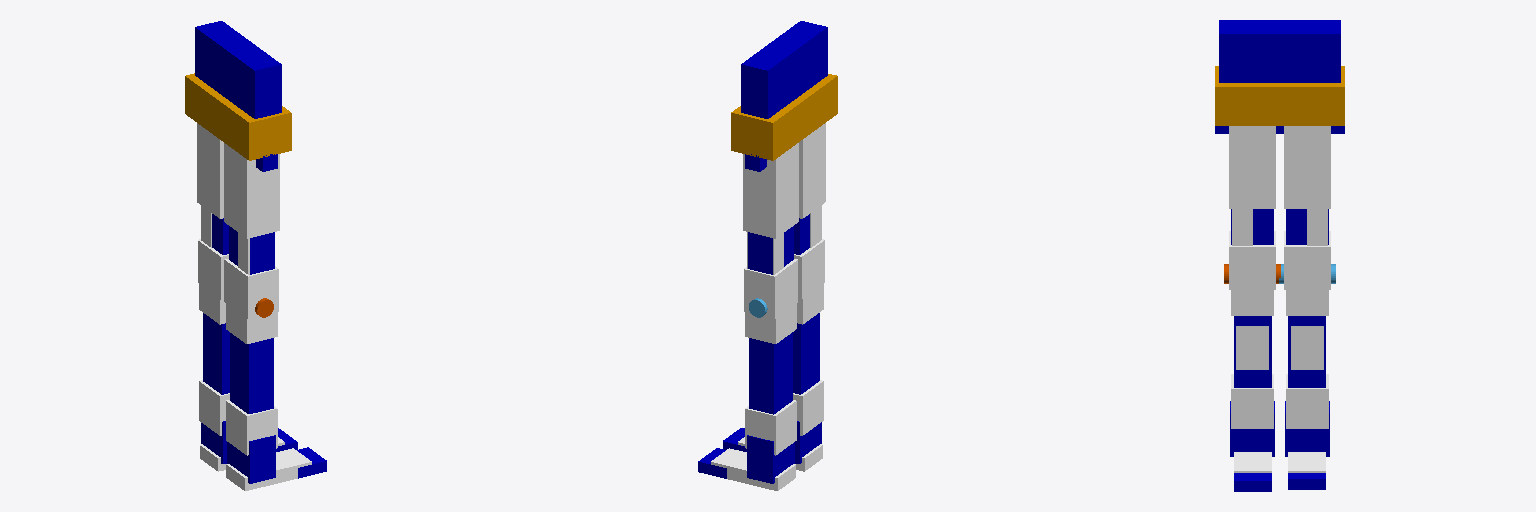
--- What the picture shows (computed from the rendered views, not written in the file) ---
Views: 3 orthographic renders of the robot side by side, from view 1: azimuth 30°, elevation 25°; view 2: azimuth 150°, elevation 25°; view 3: azimuth 270°, elevation 25°.
Robot: Opanoid_sketch — 30 links, 29 joints (12 revolute, 17 fixed); root link base_link; default pose: every joint at zero.
Visible links, largest first — view 1: servo_mounts, base_link, r_pelvis_attachment, r_160mm_rail, r_u_knee_joint, l_pelvis_attachment, l_160mm_rail, r_ankle_2, r_ankle_1, rightFoot, r_l_knee_joint, r_140mm_rail (+6 smaller); view 2: servo_mounts, base_link, l_pelvis_attachment, l_160mm_rail, r_pelvis_attachment, l_u_knee_joint, r_160mm_rail, l_ankle_2, l_ankle_1, l_l_knee_joint, leftFoot, l_140mm_rail (+5 smaller); view 3: servo_mounts, base_link, l_pelvis_attachment, r_pelvis_attachment, l_l_knee_joint, r_l_knee_joint, l_ankle_2, r_ankle_2, l_servo_module_t2, r_servo_module_t2, r_u_knee_joint, l_u_knee_joint (+12 smaller).
Boxes of the visible links, x1,y1,x2,y2 form: servo_mounts: (195,21,281,118); base_link: (185,73,291,160); r_pelvis_attachment: (224,143,279,238); r_160mm_rail: (230,333,273,413); r_u_knee_joint: (224,259,278,318); l_pelvis_attachment: (197,123,223,218); l_160mm_rail: (203,313,229,394); r_ankle_2: (226,400,277,455); r_ankle_1: (227,435,275,483); rightFoot: (226,448,311,490); r_l_knee_joint: (226,304,277,343); r_140mm_rail: (229,226,274,274); servo_mounts: (741,21,827,118); base_link: (731,74,837,160); l_pelvis_attachment: (743,143,798,238); l_160mm_rail: (749,332,792,414); r_pelvis_attachment: (799,123,825,218); l_u_knee_joint: (744,259,797,318); r_160mm_rail: (793,313,819,394); l_ankle_2: (745,400,796,455); l_ankle_1: (747,435,794,483); l_l_knee_joint: (745,288,796,343); leftFoot: (711,448,795,490); l_140mm_rail: (748,226,793,274); servo_mounts: (1219,20,1340,82); base_link: (1215,66,1344,125); l_pelvis_attachment: (1284,126,1330,208); r_pelvis_attachment: (1229,126,1275,208); l_l_knee_joint: (1286,273,1328,315); r_l_knee_joint: (1231,273,1273,315); l_ankle_2: (1286,374,1328,428); r_ankle_2: (1231,374,1273,428); l_servo_module_t2: (1291,326,1323,369); r_servo_module_t2: (1236,326,1268,369); r_u_knee_joint: (1229,231,1275,289); l_u_knee_joint: (1284,231,1330,289).
Bounding box of the posed robot: 0.1702 × 0.218 × 0.7939 m (x, y, z).
Geometry: primitives only (box / cylinder / sphere), no mesh files.

The robot description file, URDF, robot "Opanoid_sketch":
<?xml version="1.0"?>
<robot name="Opanoid_sketch">

<!--materials-->
  <material name="blue">
    <color rgba="0 0 0.8 1"/>
  </material>

  <material name="white">
    <color rgba="1 1 1 1"/>
  </material>
  
<!--links-->
<!--Pelvis-->
  <link name="base_link">
  	<visual>
  		<geometry>
				<box size="0.0825 0.218 0.0712"/>
			</geometry>
		</visual>
		<collision>
  		<geometry>
				<box size="0.15 0.35 0.15"/>
			</geometry>
		</collision>
		<inertial>
      <mass value="0.272"/>
      <inertia ixx="0.4" ixy="0.0" ixz="0.0" iyy="0.4" iyz="0.0" izz="0.2"/>
    </inertial>
	</link>
	<link name="pelvis_lower">
  	<visual>
  		<geometry>
				<box size="0.03 0.218 0.03"/>
			</geometry>
			<origin xyz="0 0 -0.015" rpy="0 0 0"/>
			<material name="blue"/>
		</visual>
		<collision>
  		<geometry>
				<box size="0.15 0.35 0.15"/>
			</geometry>
			<origin xyz="0 0 -0.015" rpy="0 0 0"/>
		</collision>
		<inertial>
      <mass value="0.078"/>
      <inertia ixx="0.4" ixy="0.0" ixz="0.0" iyy="0.4" iyz="0.0" izz="0.2"/>
    </inertial>
	</link>
	<link name="servo_mounts">
  	<visual>
  		<geometry>
				<box size="0.0525 0.2025 0.1525"/>
			</geometry>
			<origin xyz="0 0 0" rpy="0 0 0"/>
			<material name="blue"/>
		</visual>
		<collision>
  		<geometry>
				<box size="0.15 0.35 0.15"/>
			</geometry>
			<origin xyz="0 0 -0.015" rpy="0 0 0"/>
		</collision>
		<inertial>
      <mass value="0.672"/>
      <inertia ixx="0.4" ixy="0.0" ixz="0.0" iyy="0.4" iyz="0.0" izz="0.2"/>
    </inertial>
	</link>
	<link name="l_pelvis_bracket_2">
  	<visual>
  		<geometry>
				<box size="0.054 0.06 0.04"/>
			</geometry>
			<origin xyz="0 0 0" rpy="0 0 0"/>
		</visual>
		<collision>
  		<geometry>
				<box size="0.054 0.06 0.04"/>
			</geometry>
			<origin xyz="0 0 0" rpy="0 0 0"/>
		</collision>
		<inertial>
      <mass value="0.11"/>
      <inertia ixx="0.4" ixy="0.0" ixz="0.0" iyy="0.4" iyz="0.0" izz="0.2"/>
    </inertial>
  </link>
  <link name="r_pelvis_bracket_2">
  	<visual>
  		<geometry>
				<box size="0.054 0.06 0.04"/>
			</geometry>
			<origin xyz="0 0 0" rpy="0 0 0"/>
		</visual>
		<collision>
  		<geometry>
				<box size="0.054 0.06 0.04"/>
			</geometry>
			<origin xyz="0 0 0" rpy="0 0 0"/>
		</collision>
		<inertial>
      <mass value="0.11"/>
      <inertia ixx="0.4" ixy="0.0" ixz="0.0" iyy="0.4" iyz="0.0" izz="0.2"/>
    </inertial>
  </link>
  
<!--Left leg-->
	<link name="l_pelvis_attachment">
  	<visual>
  		<geometry>
				<box size="0.064 0.07925 0.157"/>
			</geometry>
			<origin xyz="0 0 -0.0665" rpy="0 0 0"/>
			<material name="white"/>
		</visual>
		<collision>
  		<geometry>
				<box size="0.064 0.007925 0.157"/>
			</geometry>
			<origin xyz="0 0 -0.0665" rpy="0 0 0"/>
		</collision>
		<inertial>
      <mass value="0.174"/>
      <inertia ixx="0.4" ixy="0.0" ixz="0.0" iyy="0.4" iyz="0.0" izz="0.2"/>
    </inertial>
  </link>
  <link name="l_140mm_rail">
  	<visual>
  		<geometry>
				<box size="0.0485 0.0715 0.14"/>
			</geometry>
			<origin xyz="0 0 -0.07" rpy="0 0 0"/>
			<material name="blue"/>
		</visual>
		<collision>
  		<geometry>
				<box size="0.0485 0.0715 0.14"/>
			</geometry>
			<origin xyz="0 0 -0.07" rpy="0 0 0"/>
		</collision>
		<inertial>
      <mass value="0.03"/>
      <inertia ixx="0.4" ixy="0.0" ixz="0.0" iyy="0.4" iyz="0.0" izz="0.2"/>
    </inertial>
  </link>
  <link name="l_servo_module_t1">
  	<visual>
  		<geometry>
				<box size="0.0525 0.0345 0.1035"/>
			</geometry>
			<origin xyz="0 0.01725 0" rpy="0 0 0"/>
			<material name="white"/>
		</visual>
		<collision>
  		<geometry>
				<box size="0.0525 0.0345 0.1035"/>
			</geometry>
			<origin xyz="0 0.01725 0" rpy="0 0 0"/>
		</collision>
		<inertial>
      <mass value="0.118"/>
      <inertia ixx="0.4" ixy="0.0" ixz="0.0" iyy="0.4" iyz="0.0" izz="0.2"/>
    </inertial>
  </link>
  <link name="l_u_knee_joint">
  	<visual>
  		<geometry>
				<box size="0.061 0.07925 0.08"/>
			</geometry>
			<origin xyz="0 0 0.024" rpy="0 0 0"/>
			<material name="white"/>
		</visual>
		<collision>
  		<geometry>
				<box size="0.061 0.07925 0.08"/>
			</geometry>
			<origin xyz="0 0 0.024" rpy="0 0 0"/>
		</collision>
		<inertial>
      <mass value="0.048"/>
      <inertia ixx="0.4" ixy="0.0" ixz="0.0" iyy="0.4" iyz="0.0" izz="0.2"/>
    </inertial>
  </link>
  <link name="l_joint_hinge">
  	<visual>
  		<geometry>
				<cylinder radius="0.01625" length="0.0945"/>
			</geometry>
			<origin xyz="0 0 0" rpy="1.5708 0 0"/>
			<material name=""/>
		</visual>
		<collision>
  		<geometry>
				<cylinder radius="0.0325" length="0.0945"/>
			</geometry>
			<origin xyz="0 0 0" rpy="1.5708 0 0"/>
		</collision>
		<inertial>
      <mass value="0.045"/>
      <inertia ixx="0.4" ixy="0.0" ixz="0.0" iyy="0.4" iyz="0.0" izz="0.2"/>
    </inertial>
  </link>
  <link name="l_l_knee_joint">
  	<visual>
  		<geometry>
				<box size="0.061 0.07175 0.08"/>
			</geometry>
			<origin xyz="0 0 -0.024" rpy="0 0 0"/>
			<material name="white"/>
		</visual>
		<collision>
  		<geometry>
				<box size="0.061 0.07175 0.08"/>
			</geometry>
			<origin xyz="0 0 -0.024" rpy="0 0 0"/>
		</collision>
		<inertial>
      <mass value="0.05"/>
      <inertia ixx="0.4" ixy="0.0" ixz="0.0" iyy="0.4" iyz="0.0" izz="0.2"/>
    </inertial>
  </link>
  <link name="l_160mm_rail">
  	<visual>
  		<geometry>
				<box size="0.0485 0.064 0.16"/>
			</geometry>
			<origin xyz="0 0 -0.08" rpy="0 0 0"/>
			<material name="blue"/>
		</visual>
		<collision>
  		<geometry>
				<box size="0.0485 0.064 0.16"/>
			</geometry>
			<origin xyz="0 0 -0.08" rpy="0 0 0"/>
		</collision>
		<inertial>
      <mass value="0.035"/>
      <inertia ixx="0.4" ixy="0.0" ixz="0.0" iyy="0.4" iyz="0.0" izz="0.2"/>
    </inertial>
  </link>
  <link name="l_servo_module_t2">
  	<visual>
  		<geometry>
				<box size="0.029 0.055 0.0795"/>
			</geometry>
			<origin xyz="0.01 0 0" rpy="0 0 0"/>
			<material name="white"/>
		</visual>
		<collision>
  		<geometry>
				<box size="0.029 0.055 0.0795"/>
			</geometry>
			<origin xyz="0.01 0 0" rpy="0 0 0"/>
		</collision>
		<inertial>
      <mass value="0.105"/>
      <inertia ixx="0.4" ixy="0.0" ixz="0.0" iyy="0.4" iyz="0.0" izz="0.2"/>
    </inertial>
  </link>
	<link name="l_ankle_2">
  	<visual>
  		<geometry>
				<box size="0.06 0.07175 0.0739"/>
			</geometry>
			<origin xyz="0 0 -0.035" rpy="0 0 0"/>
			<material name="white"/>
		</visual>
		<collision>
  		<geometry>
				<box size="0.06 0.07175 0.0739"/>
			</geometry>
			<origin xyz="0 0 -0.035" rpy="0 0 0"/>
		</collision>
		<inertial>
      <mass value="0.073"/>
      <inertia ixx="0.4" ixy="0.0" ixz="0.0" iyy="0.4" iyz="0.0" izz="0.2"/>
    </inertial>
  </link>
  <link name="l_ankle_1">
  	<visual>
  		<geometry>
				<box size="0.0515 0.0752 0.0792"/>
			</geometry>
			<origin xyz="0 0 -0.0396" rpy="0 0 0"/>
			<material name="blue"/>
		</visual>
		<collision>
  		<geometry>
				<box size="0.0515 0.0752 0.0792"/>
			</geometry>
			<origin xyz="0 0 -0.0396" rpy="0 0 0"/>
		</collision>
		<inertial>
      <mass value="0.036"/>
      <inertia ixx="0.4" ixy="0.0" ixz="0.0" iyy="0.4" iyz="0.0" izz="0.2"/>
    </inertial>
  </link>
  <link name="leftFoot">
  	<visual>
  		<geometry>
				<box size="0.131 0.0627 0.025"/>
			</geometry>
			<origin xyz="0.0343 0 -0.0025" rpy="0 0 0"/>
			<material name="white"/>
		</visual>
		<collision>
  		<geometry>
				<box size="0.131 0.0627 0.025"/>
			</geometry>
			<origin xyz="0.0343 0 -0.0025" rpy="0 0 0"/>
		</collision>
		<inertial>
      <mass value="0.146"/>
      <inertia ixx="0.4" ixy="0.0" ixz="0.0" iyy="0.4" iyz="0.0" izz="0.2"/>
    </inertial>
  </link>
  <link name="leftToe">
  	<visual>
  		<geometry>
				<box size="0.0569 0.0632 0.02"/>
			</geometry>
			<origin xyz="0.01 0 0" rpy="0 0 0"/>
			<material name="blue"/>
		</visual>
		<collision>
  		<geometry>
				<box size="0.0569 0.0632 0.02"/>
			</geometry>
			<origin xyz="0.01 0 0" rpy="0 0 0"/>
		</collision>
		<inertial>
      <mass value="0.42"/>
      <inertia ixx="0.4" ixy="0.0" ixz="0.0" iyy="0.4" iyz="0.0" izz="0.2"/>
    </inertial>
  </link>

<!--Right leg-->
  <link name="r_pelvis_attachment">
  	<visual>
  		<geometry>
				<box size="0.064 0.07925 0.157"/>
			</geometry>
			<origin xyz="0 0 -0.0665" rpy="0 0 0"/>
			<material name="white"/>
		</visual>
		<collision>
  		<geometry>
				<box size="0.064 0.07925 0.157"/>
			</geometry>
			<origin xyz="0 0 -0.0665" rpy="0 0 0"/>
		</collision>
		<inertial>
      <mass value="0.174"/>
      <inertia ixx="0.4" ixy="0.0" ixz="0.0" iyy="0.4" iyz="0.0" izz="0.2"/>
    </inertial>
  </link>
  <link name="r_140mm_rail">
  	<visual>
  		<geometry>
				<box size="0.0485 0.0715 0.14"/>
			</geometry>
			<origin xyz="0 0 -0.07" rpy="0 0 0"/>
			<material name="blue"/>
		</visual>
		<collision>
  		<geometry>
				<box size="0.0485 0.0715 0.14"/>
			</geometry>
			<origin xyz="0 0 -0.07" rpy="0 0 0"/>
		</collision>
		<inertial>
      <mass value="0.03"/>
      <inertia ixx="0.4" ixy="0.0" ixz="0.0" iyy="0.4" iyz="0.0" izz="0.2"/>
    </inertial>
  </link>
  <link name="r_servo_module_t1">
  	<visual>
  		<geometry>
				<box size="0.0525 0.0345 0.1035"/>
			</geometry>
			<origin xyz="0 -0.01725 0" rpy="0 0 0"/>
			<material name="white"/>
		</visual>
		<collision>
  		<geometry>
				<box size="0.0525 0.0345 0.1035"/>
			</geometry>
			<origin xyz="0 -0.01725 0" rpy="0 0 0"/>
		</collision>
		<inertial>
      <mass value="0.118"/>
      <inertia ixx="0.4" ixy="0.0" ixz="0.0" iyy="0.4" iyz="0.0" izz="0.2"/>
    </inertial>
  </link>
  <link name="r_u_knee_joint">
  	<visual>
  		<geometry>
				<box size="0.061 0.07925 0.08"/>
			</geometry>
			<origin xyz="0 0 0.024" rpy="0 0 0"/>
			<material name="white"/>
		</visual>
		<collision>
  		<geometry>
				<box size="0.061 0.07925 0.08"/>
			</geometry>
			<origin xyz="0 0 0.024" rpy="0 0 0"/>
		</collision>
		<inertial>
      <mass value="0.048"/>
      <inertia ixx="0.4" ixy="0.0" ixz="0.0" iyy="0.4" iyz="0.0" izz="0.2"/>
    </inertial>
  </link>
  <link name="r_joint_hinge">
  	<visual>
  		<geometry>
				<cylinder radius="0.01625" length="0.0945"/>
			</geometry>
			<origin xyz="0 0 0" rpy="1.5708 0 0"/>
			<material name=""/>
		</visual>
		<collision>
  		<geometry>
				<cylinder radius="0.0325" length="0.0945"/>
			</geometry>
			<origin xyz="0 0 0" rpy="1.5708 0 0"/>
		</collision>
		<inertial>
      <mass value="0.045"/>
      <inertia ixx="0.4" ixy="0.0" ixz="0.0" iyy="0.4" iyz="0.0" izz="0.2"/>
    </inertial>
  </link>
  <link name="r_l_knee_joint">
  	<visual>
  		<geometry>
				<box size="0.061 0.07175 0.08"/>
			</geometry>
			<origin xyz="0 0 -0.024" rpy="0 0 0"/>
			<material name="white"/>
		</visual>
		<collision>
  		<geometry>
				<box size="0.061 0.07175 0.08"/>
			</geometry>
			<origin xyz="0 0 -0.024" rpy="0 0 0"/>
		</collision>
		<inertial>
      <mass value="0.05"/>
      <inertia ixx="0.4" ixy="0.0" ixz="0.0" iyy="0.4" iyz="0.0" izz="0.2"/>
    </inertial>
  </link>
  <link name="r_160mm_rail">
  	<visual>
  		<geometry>
				<box size="0.0485 0.064 0.16"/>
			</geometry>
			<origin xyz="0 0 -0.08" rpy="0 0 0"/>
			<material name="blue"/>
		</visual>
		<collision>
  		<geometry>
				<box size="0.0485 0.064 0.16"/>
			</geometry>
			<origin xyz="0 0 -0.08" rpy="0 0 0"/>
		</collision>
		<inertial>
      <mass value="0.035"/>
      <inertia ixx="0.4" ixy="0.0" ixz="0.0" iyy="0.4" iyz="0.0" izz="0.2"/>
    </inertial>
  </link>
  <link name="r_servo_module_t2">
  	<visual>
  		<geometry>
				<box size="0.029 0.055 0.0795"/>
			</geometry>
			<origin xyz="0.01 0 0" rpy="0 0 0"/>
			<material name="white"/>
		</visual>
		<collision>
  		<geometry>
				<box size="0.029 0.055 0.0795"/>
			</geometry>
			<origin xyz="0.01 0 0" rpy="0 0 0"/>
		</collision>
		<inertial>
      <mass value="0.105"/>
      <inertia ixx="0.4" ixy="0.0" ixz="0.0" iyy="0.4" iyz="0.0" izz="0.2"/>
    </inertial>
  </link>
  <link name="r_ankle_2">
  	<visual>
  		<geometry>
				<box size="0.06 0.07175 0.0739"/>
			</geometry>
			<origin xyz="0 0 -0.035" rpy="0 0 0"/>
			<material name="white"/>
		</visual>
		<collision>
  		<geometry>
				<box size="0.06 0.07175 0.0739"/>
			</geometry>
			<origin xyz="0 0 -0.035" rpy="0 0 0"/>
		</collision>
		<inertial>
      <mass value="0.073"/>
      <inertia ixx="0.4" ixy="0.0" ixz="0.0" iyy="0.4" iyz="0.0" izz="0.2"/>
    </inertial>
  </link>
  <link name="r_ankle_1">
  	<visual>
  		<geometry>
				<box size="0.0515 0.0752 0.0792"/>
			</geometry>
			<origin xyz="0 0 -0.0396" rpy="0 0 0"/>
			<material name="blue"/>
		</visual>
		<collision>
  		<geometry>
				<box size="0.0515 0.0752 0.0792"/>
			</geometry>
			<origin xyz="0 0 -0.0396" rpy="0 0 0"/>
		</collision>
		<inertial>
      <mass value="10"/>
      <inertia ixx="0.4" ixy="0.0" ixz="0.0" iyy="0.4" iyz="0.0" izz="0.2"/>
    </inertial>
  </link>
  <link name="rightFoot">
  	<visual>
  		<geometry>
				<box size="0.131 0.0627 0.025"/>
			</geometry>
			<origin xyz="0.0343 0 -0.0025" rpy="0 0 0"/>
			<material name="white"/>
		</visual>
		<collision>
  		<geometry>
				<box size="0.131 0.0627 0.025"/>
			</geometry>
			<origin xyz="0.0343 0 -0.0025" rpy="0 0 0"/>
		</collision>
		<inertial>
      <mass value="0.146"/>
      <inertia ixx="0.4" ixy="0.0" ixz="0.0" iyy="0.4" iyz="0.0" izz="0.2"/>
    </inertial>
  </link>
  <link name="rightToe">
  	<visual>
  		<geometry>
				<box size="0.0569 0.0632 0.02"/>
			</geometry>
			<origin xyz="0.015 0 0" rpy="0 0 0"/>
			<material name="blue"/>
		</visual>
		<collision>
  		<geometry>
				<box size="0.0569 0.0632 0.02"/>
			</geometry>
			<origin xyz="0.01 0 0" rpy="0 0 0"/>
		</collision>
		<inertial>
      <mass value="0.42"/>
      <inertia ixx="0.4" ixy="0.0" ixz="0.0" iyy="0.4" iyz="0.0" izz="0.2"/>
    </inertial>
  </link>
  <link name="imu_link">
  	<collision>
      <origin xyz="0 0 0" rpy="0 0 0"/>
      <geometry>
    		<box size="0 0 0"/>
      </geometry>
    </collision>
    <visual>
      <origin xyz="0 0 0" rpy="0 0 0"/>
      <geometry>
    		<box size="0.07 0.07 0.07"/>
      </geometry>
      <material name="white"/>
    </visual>
    <inertial>
      <mass value="1e-5" />
      <origin xyz="0 0 0" rpy="0 0 0"/>
      <inertia ixx="1e-6" ixy="0" ixz="0" iyy="1e-6" iyz="0" izz="1e-6" />
    </inertial>
  </link>

<!--joints-->
	<joint name="pelvis_internal" type="fixed">
    <parent link="base_link"/>
    <child link="pelvis_lower"/>
		<origin xyz="0 0 -0.0325" rpy="0 0 0"/>
  </joint>
  
  <joint name="pelvis_servo" type="fixed">
    <parent link="base_link"/>
    <child link="servo_mounts"/>
		<origin xyz="0 0 0.05" rpy="0 0 0"/>
  </joint>
  
	<joint name="leftThighY" type="revolute">
    <parent link="pelvis_lower"/>
    <child link="l_pelvis_bracket_2"/>
    <axis xyz="0 -1 0"/>
    <limit effort="100.0" lower="-1.570" upper="1.570" velocity="7.48"/>
		<origin xyz="0 0.0385 -0.015" rpy="0 0 0"/>
  </joint>
  <transmission name="leftThighY_trans">
    <type>transmission_interface/SimpleTransmission</type>
    <actuator name="$leftThighY_motor">
      <mechanicalReduction>1</mechanicalReduction>
    </actuator>
    <joint name="leftThighY">
      <hardwareInterface>hardware_interface/PositionJointInterface</hardwareInterface>
    </joint>
  </transmission>
  
  <joint name="leftThighX" type="revolute">
    <parent link="l_pelvis_bracket_2"/>
    <child link="l_pelvis_attachment"/>
    <axis xyz="1 0 0"/>
    <limit effort="100.0" lower="-0.15" upper="1.570" velocity="6.546"/>
		<origin xyz="0 0.007 0" rpy="0 0 0"/>
  </joint>
  <transmission name="leftThighX_trans">
    <type>transmission_interface/SimpleTransmission</type>
    <actuator name="$leftThighX_motor">
      <mechanicalReduction>1</mechanicalReduction>
    </actuator>
    <joint name="leftThighX">
      <hardwareInterface>hardware_interface/PositionJointInterface</hardwareInterface>
    </joint>
  </transmission>
  
  <joint name="l_upper_thigh" type="fixed">
    <parent link="l_pelvis_attachment"/>
    <child link="l_140mm_rail"/>
		<origin xyz="0 0 -0.1" rpy="0 0 0"/>
  </joint>
  
  <joint name="l_lower_thigh" type="fixed">
    <parent link="l_140mm_rail"/>
    <child link="l_u_knee_joint"/>
		<origin xyz="0 0 -0.18" rpy="0 0 0"/>
  </joint>
  
  <joint name="l_kneeServo" type="fixed">
    <parent link="l_140mm_rail"/>
    <child link="l_servo_module_t1"/>
		<origin xyz="0 0 -0.09" rpy="0 0 0"/>
  </joint>  
  
  <joint name="l_hinge" type="fixed">
    <parent link="l_u_knee_joint"/>
    <child link="l_joint_hinge"/>
		<origin xyz="0 0 0" rpy="0 0 0"/>
  </joint>  
  
	<joint name="leftKnee" type="revolute">
    <parent link="l_u_knee_joint"/>
    <child link="l_l_knee_joint"/>
    <axis xyz="0 1 0"/>
    <limit effort="100.0" lower="0" upper="1.570" velocity="7.48"/>
		<origin xyz="0 0 0" rpy="0 0 0"/>
  </joint>
  <transmission name="leftKnee_trans">
    <type>transmission_interface/SimpleTransmission</type>
    <actuator name="$leftKnee_motor">
      <mechanicalReduction>1</mechanicalReduction>
    </actuator>
    <joint name="leftKnee">
      <hardwareInterface>hardware_interface/PositionJointInterface</hardwareInterface>
    </joint>
  </transmission>
  
  <joint name="l_upper_calf" type="fixed">
    <parent link="l_l_knee_joint"/>
    <child link="l_160mm_rail"/>
		<origin xyz="0 0 -0.05" rpy="0 0 0"/>
  </joint>
  
  <joint name="leftCalf" type="fixed">
    <parent link="l_160mm_rail"/>
    <child link="l_ankle_2"/>
    <axis xyz="0 1 0"/>
    <limit effort="100.0" lower="0" upper="1.570" velocity="7.48"/>
		<origin xyz="0 0 -0.15" rpy="0 0 0"/>
  </joint>
  
  <joint name="l_ankleServo" type="fixed">
    <parent link="l_160mm_rail"/>
    <child link="l_servo_module_t2"/>
		<origin xyz="0 0 -0.075" rpy="0 0 0"/>
  </joint> 
  
  <joint name="leftAnkleX" type="revolute">
    <parent link="l_ankle_2"/>
    <child link="l_ankle_1"/>
    <axis xyz="1 0 0"/>
    <limit effort="100.0" lower="-1.570" upper="1.570" velocity="7.48"/>
		<origin xyz="0 0 -0.04625" rpy="0 0 0"/>
  </joint>
  <transmission name="leftAnkleX_trans">
    <type>transmission_interface/SimpleTransmission</type>
    <actuator name="$leftAnkleX_motor">
      <mechanicalReduction>1</mechanicalReduction>
    </actuator>
    <joint name="leftAnkleX">
      <hardwareInterface>hardware_interface/PositionJointInterface</hardwareInterface>
    </joint>
  </transmission>
  
  <joint name="leftAnkleY" type="revolute">
    <parent link="l_ankle_1"/>
    <child link="leftFoot"/>
    <axis xyz="0 1 0"/>
    <limit effort="100.0" lower="-1.570" upper="1.570" velocity="7.48"/>
		<origin xyz="0 0 -0.07895" rpy="0 0 0"/>
  </joint>
  <transmission name="leftAnkleY_trans">
    <type>transmission_interface/SimpleTransmission</type>
    <actuator name="$leftAnkleY_motor">
      <mechanicalReduction>1</mechanicalReduction>
    </actuator>
    <joint name="leftAnkleY">
      <hardwareInterface>hardware_interface/PositionJointInterface</hardwareInterface>
    </joint>
  </transmission>
   
  <joint name="leftToe" type="revolute">
    <parent link="leftFoot"/>
    <child link="leftToe"/>
    <axis xyz="0 1 0"/>
    <limit effort="100.0" lower="-1.570" upper="1.570" velocity="7.48"/>
		<origin xyz="0.08545 0 -0.005" rpy="0 0 0"/>
  </joint>
  <transmission name="leftToe_trans">
    <type>transmission_interface/SimpleTransmission</type>
    <actuator name="$leftToe_motor">
      <mechanicalReduction>1</mechanicalReduction>
    </actuator>
    <joint name="leftToe">
      <hardwareInterface>hardware_interface/PositionJointInterface</hardwareInterface>
    </joint>
  </transmission>
  
  <joint name="rightThighY" type="revolute">
    <parent link="pelvis_lower"/>
    <child link="r_pelvis_bracket_2"/>
    <axis xyz="0 -1 0"/>
    <limit effort="1000.0" lower="-1.570" upper="1.570" velocity="7.48"/>
		<origin xyz="0 -0.0385 -0.015" rpy="0 0 0"/>
  </joint>
  <transmission name="rightThighY_trans">
    <type>transmission_interface/SimpleTransmission</type>
    <actuator name="$rightThighY_motor">
      <mechanicalReduction>1</mechanicalReduction>
    </actuator>
    <joint name="rightThighY">
      <hardwareInterface>hardware_interface/PositionJointInterface</hardwareInterface>
    </joint>
  </transmission>
  
  <joint name="rightThighX" type="revolute">
    <parent link="r_pelvis_bracket_2"/>
    <child link="r_pelvis_attachment"/>
    <axis xyz="-1 0 0"/>
    <limit effort="100.0" lower="-0.15" upper="1.5705" velocity="6.546"/>
		<origin xyz="0 -0.007 0" rpy="0 0 0"/>
  </joint>
  <transmission name="rightThighX_trans">
    <type>transmission_interface/SimpleTransmission</type>
    <actuator name="$rightThighX_motor">
      <mechanicalReduction>1</mechanicalReduction>
    </actuator>
    <joint name="rightThighX">
      <hardwareInterface>hardware_interface/PositionJointInterface</hardwareInterface>
    </joint>
  </transmission>
  
  <joint name="r_upper_thigh" type="fixed">
    <parent link="r_pelvis_attachment"/>
    <child link="r_140mm_rail"/>
		<origin xyz="0 0 -0.1" rpy="0 0 0"/>
  </joint>
  
  <joint name="r_lower_thigh" type="fixed">
    <parent link="r_140mm_rail"/>
    <child link="r_u_knee_joint"/>
		<origin xyz="0 0 -0.18" rpy="0 0 0"/>
  </joint>
  
  <joint name="r_kneeServo" type="fixed">
    <parent link="r_140mm_rail"/>
    <child link="r_servo_module_t1"/>
		<origin xyz="0 0 -0.09" rpy="0 0 0"/>
  </joint>
  
  <joint name="r_hinge" type="fixed">
    <parent link="r_u_knee_joint"/>
    <child link="r_joint_hinge"/>
		<origin xyz="0 0 0" rpy="0 0 0"/>
  </joint> 

	<joint name="rightKnee" type="revolute">
    <parent link="r_u_knee_joint"/>
    <child link="r_l_knee_joint"/>
    <axis xyz="0 1 0"/>
    <limit effort="100.0" lower="0" upper="1.570" velocity="7.48"/>
		<origin xyz="0 0 0" rpy="0 0 0" />
  </joint>
  <transmission name="rightKnee_trans">
    <type>transmission_interface/SimpleTransmission</type>
    <actuator name="$rightKnee_motor">
      <mechanicalReduction>1</mechanicalReduction>
    </actuator>
    <joint name="rightKnee">
      <hardwareInterface>hardware_interface/PositionJointInterface</hardwareInterface>
    </joint>
  </transmission>
  
  <joint name="r_upper_calf" type="fixed">
    <parent link="r_l_knee_joint"/>
    <child link="r_160mm_rail"/>
		<origin xyz="0 0 -0.05" rpy="0 0 0"/>
  </joint>
  
  <joint name="rightCalf" type="fixed">
    <parent link="r_160mm_rail"/>
    <child link="r_ankle_2"/>
    <axis xyz="0 1 0"/>
    <limit effort="100.0" lower="0" upper="1.570" velocity="7.48"/>
		<origin xyz="0 0 -0.15" rpy="0 0 0"/>
  </joint>
  
  <joint name="r_ankleServo" type="fixed">
    <parent link="r_160mm_rail"/>
    <child link="r_servo_module_t2"/>
		<origin xyz="0 0 -0.075" rpy="0 0 0"/>
  </joint> 
  
  <joint name="rightAnkleX" type="revolute">
    <parent link="r_ankle_2"/>
    <child link="r_ankle_1"/>
    <axis xyz="1 0 0"/>
    <limit effort="100.0" lower="-1.570" upper="1.570" velocity="7.48"/>
		<origin xyz="0 0 -0.04625" rpy="0 0 0"/>
  </joint>
  <transmission name="rightAnkleX_trans">
    <type>transmission_interface/SimpleTransmission</type>
    <actuator name="$rightAnkleX_motor">
      <mechanicalReduction>1</mechanicalReduction>
    </actuator>
    <joint name="rightAnkleX">
      <hardwareInterface>hardware_interface/PositionJointInterface</hardwareInterface>
    </joint>
  </transmission>
  
  <joint name="rightAnkleY" type="revolute">
    <parent link="r_ankle_1"/>
    <child link="rightFoot"/>
    <axis xyz="0 1 0"/>
    <limit effort="100.0" lower="-1.570" upper="1.570" velocity="7.48"/>
		<origin xyz="0 0 -0.07895" rpy="0 0 0"/>
  </joint>
  <transmission name="rightAnkleY_trans">
    <type>transmission_interface/SimpleTransmission</type>
    <actuator name="$rightAnkleY_motor">
      <mechanicalReduction>1</mechanicalReduction>
    </actuator>
    <joint name="rightAnkleY">
      <hardwareInterface>hardware_interface/PositionJointInterface</hardwareInterface>
    </joint>
  </transmission>
  
  <joint name="rightToe" type="revolute">
    <parent link="rightFoot"/>
    <child link="rightToe"/>
    <axis xyz="0 1 0"/>
    <limit effort="100.0" lower="-1.570" upper="1.570" velocity="7.48"/>
		<origin xyz="0.08545 0 -0.005" rpy="0 0 0"/>
  </joint>
  <transmission name="rightToe_trans">
    <type>transmission_interface/SimpleTransmission</type>
    <actuator name="$rightToe_motor">
      <mechanicalReduction>1</mechanicalReduction>
    </actuator>
    <joint name="rightToe">
      <hardwareInterface>hardware_interface/PositionJointInterface</hardwareInterface>
    </joint>
  </transmission>
  
  <joint name="imu_joint" type="fixed">
    <axis xyz="0 1 0" />
    <origin xyz="0 0 0" rpy="0 0 0"/>
    <parent link="base_link"/>
    <child link="imu_link"/>
  </joint>
  
  <gazebo reference="imu_link">
    <gravity>true</gravity>
    <sensor name="imu_sensor" type="imu">
      <always_on>true</always_on>
      <update_rate>100</update_rate>
      <visualize>true</visualize>
      <topic>__default_topic__</topic>
      <plugin filename="libgazebo_ros_imu_sensor.so" name="imu_plugin">
        <topicName>imu</topicName>
        <bodyName>imu_link</bodyName>
        <updateRateHZ>10.0</updateRateHZ>
        <gaussianNoise>0.0</gaussianNoise>
        <xyzOffset>0 0 0</xyzOffset>
        <rpyOffset>0 0 0</rpyOffset>
        <frameName>imu_link</frameName>
      </plugin>
      <pose>0 0 0 0 0 0</pose>
    </sensor>
  </gazebo>
  
  <gazebo>
    <plugin name="gazebo_ros_control" filename="libgazebo_ros_control.so">
      <robotNamespace>/</robotNamespace>
    </plugin>
  </gazebo> 
  
</robot>
